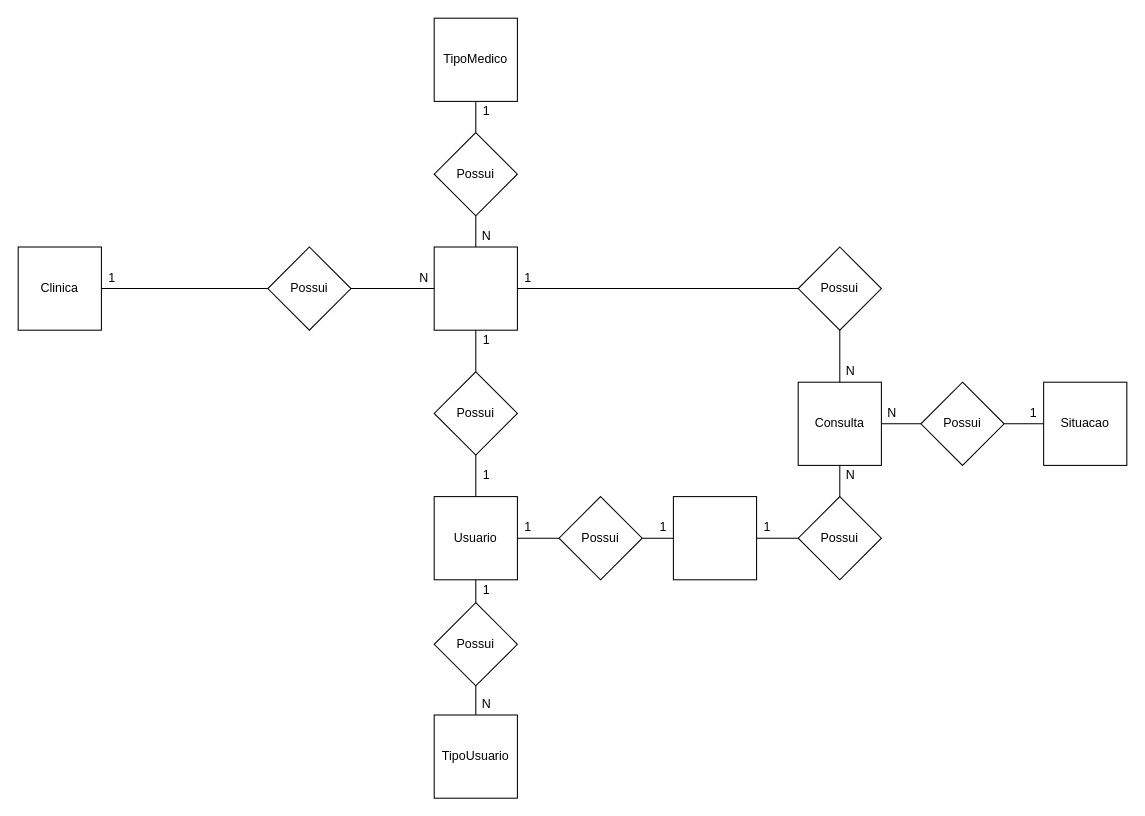
Image size: 1145x816. Some labels were removed from this diagram. Here are the shapes that lost their labels. From the top down, the centre of each, then its label:
At (x=475, y=288): "Médico".
At (x=714, y=538): "Paciente".
